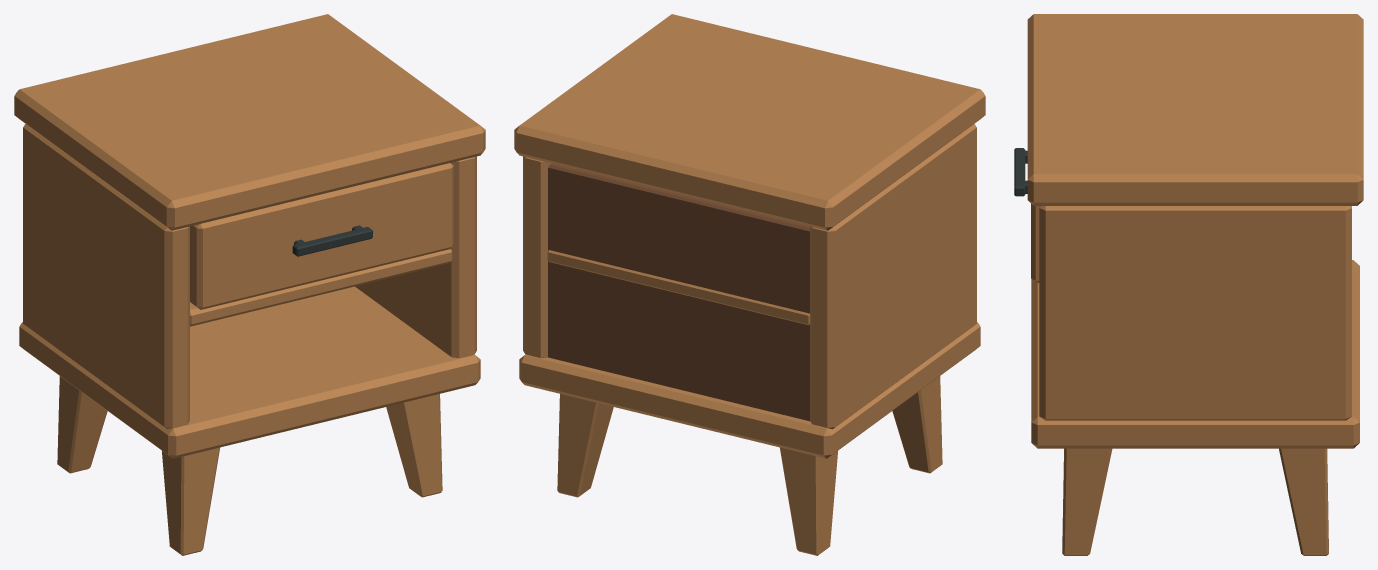
The model's file is 07_nightstand.glb.
The picture shows the model from 3 angles, left to right: view 1: azimuth 30°, elevation 25°; view 2: azimuth 150°, elevation 25°; view 3: azimuth 270°, elevation 25°; orthographic projection. The views are drawn at different scales.
Parts seen in each view (by area): view 1: Top_panel, Bottom_panel, Side_panel, Inset_drawer_front, Side_panel.001, Tapered_leg_00.005, Tapered_leg_01.005, Drawer_divider, Tapered_leg_02.005, Single_drawer_pull; view 2: Top_panel, Recessed_back, Side_panel, Bottom_panel, Side_panel.001, Tapered_leg_02.005, Tapered_leg_03.005, Tapered_leg_00.005, Drawer_divider; view 3: Side_panel.001, Top_panel, Bottom_panel, Tapered_leg_01.005, Tapered_leg_03.005, Inset_drawer_front, Single_drawer_pull.
Part boxes in pixels (x1,y1,x2,y2): Top_panel: (14, 14, 485, 230); Bottom_panel: (19, 286, 480, 458); Side_panel: (23, 124, 189, 429); Inset_drawer_front: (190, 163, 453, 309); Side_panel.001: (355, 156, 476, 357); Tapered_leg_00.005: (162, 447, 220, 555); Tapered_leg_01.005: (386, 394, 442, 497); Drawer_divider: (189, 248, 452, 326); Tapered_leg_02.005: (57, 376, 107, 473); Single_drawer_pull: (292, 226, 372, 256); Top_panel: (514, 14, 985, 230); Recessed_back: (548, 163, 809, 421); Side_panel: (810, 124, 976, 429); Bottom_panel: (519, 322, 980, 458); Side_panel.001: (523, 156, 551, 357); Tapered_leg_02.005: (779, 447, 837, 555); Tapered_leg_03.005: (557, 394, 613, 497); Tapered_leg_00.005: (892, 376, 942, 473); Drawer_divider: (547, 250, 810, 325); Side_panel.001: (1039, 206, 1351, 420); Top_panel: (1027, 14, 1363, 205); Bottom_panel: (1031, 260, 1359, 448); Tapered_leg_01.005: (1062, 448, 1112, 555); Tapered_leg_03.005: (1279, 448, 1328, 555); Inset_drawer_front: (1031, 203, 1039, 282); Single_drawer_pull: (1014, 148, 1025, 196).
Size of the model in its own units: 0.5 by 0.5575 by 0.447.
